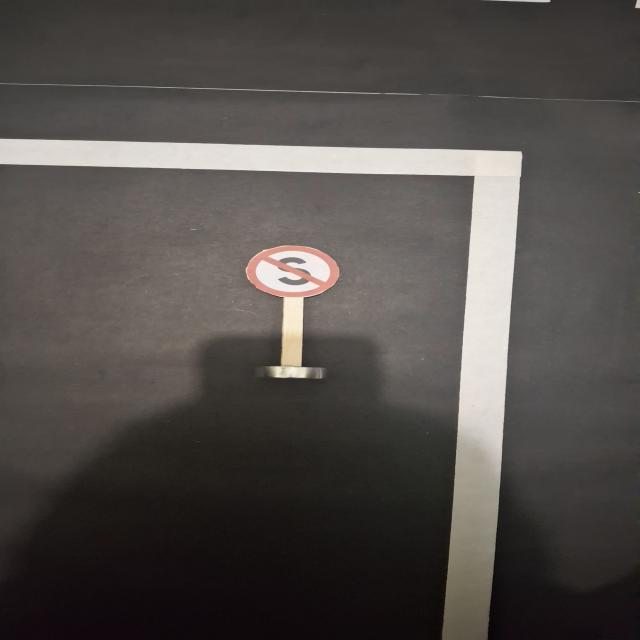Rambu Berhenti: (246, 245, 340, 298)
